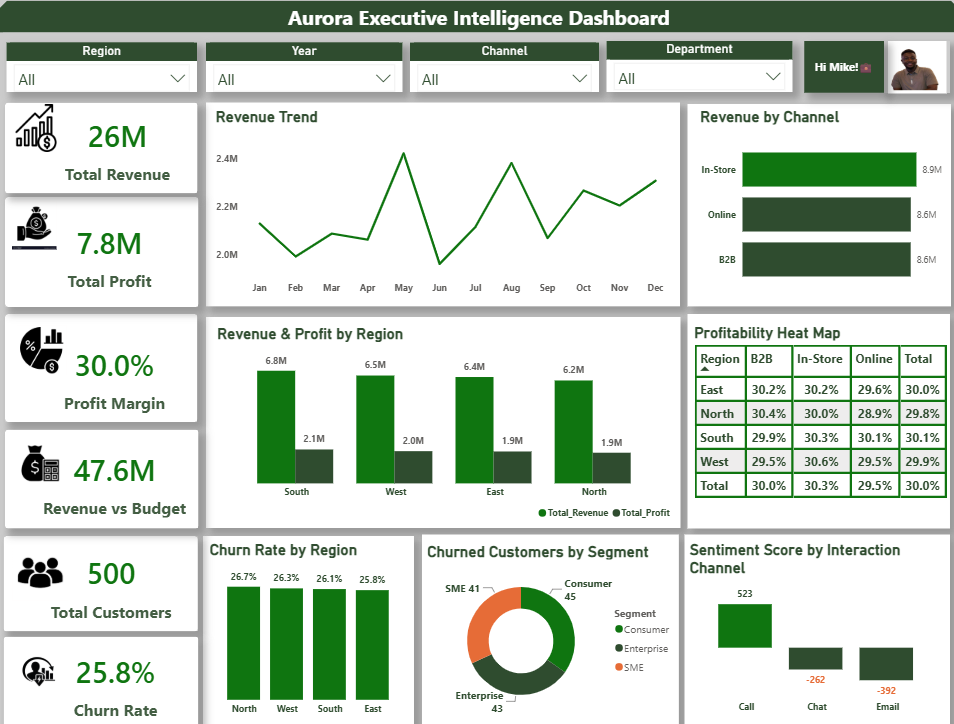

The page's visual inventory and layout, read from the dashboard file:
{"tool":"powerbi","page":{"name":"Page 2","canvas":[1280,1000],"ordinal":1},"visuals":[{"type":"shape","box":[0,2.9,1280,42.9],"z":0},{"type":"slicer","title":"Region","fields":{"Values":["Sales.region"]},"box":[10,58,254,66],"z":0,"group":"g1"},{"type":"shape","box":[9.2,138.6,257,121.2],"z":0,"group":"g16"},{"type":"shape","box":[6.2,716.4,259.1,127.4],"z":0,"group":"g11"},{"type":"group","id":"g1","title":"Group 16","box":[10,56,1048,68],"z":1000},{"type":"slicer","title":"Year","fields":{"Values":["DateTable.Year"]},"box":[276,58,262,66],"z":1000,"group":"g1"},{"type":"group","id":"g2","title":"Group 15","box":[6.2,138.6,1265.2,842.7],"z":1000,"group":"g8"},{"type":"group","id":"g3","title":"Group 1","box":[275.7,138.6,632.1,271.8],"z":1000,"group":"g2"},{"type":"shape","box":[8.1,575,258.2,132.2],"z":1000,"group":"g14"},{"type":"slicer","title":"Channel","fields":{"Values":["Sales.channel"]},"box":[548,58,252,66],"z":2000,"group":"g1"},{"type":"shape","box":[275.7,138.6,632.1,271.8],"z":2000,"group":"g3"},{"type":"group","id":"g4","title":"Group 2","box":[917.2,139.8,351.6,269.8],"z":2000,"group":"g2"},{"type":"shape","box":[8.9,421.1,256.8,144.1],"z":2000,"group":"g13"},{"type":"image","box":[14,422,66,72],"z":2000},{"type":"slicer","title":"Department","fields":{"Values":["Sales.department"]},"box":[810,56,248,68],"z":3000,"group":"g1"},{"type":"shape","box":[8.1,265.2,258.2,146.7],"z":3000,"group":"g15"},{"type":"group","id":"g5","title":"Group 3","box":[276,425.2,632,282],"z":3000,"group":"g2"},{"type":"shape","box":[276,425.2,632.7,281.4],"z":3000,"group":"g5"},{"type":"image","box":[10,576,70,66],"z":3000},{"type":"shape","box":[917.2,139.8,351.6,269.8],"z":4000,"group":"g17"},{"type":"image","box":[8,716,74,78],"z":4000},{"type":"image","box":[14,140,70,64],"z":5000,"group":"g8"},{"type":"group","id":"g6","title":"Group 5","box":[918.2,421.1,353.3,286.2],"z":5000,"group":"g2"},{"type":"shape","box":[914,715.2,354,256],"z":5000,"group":"g10"},{"type":"image","box":[0,846,88,94],"z":5000},{"type":"textbox","box":[0,0,1280,55.7],"z":6000},{"type":"shape","box":[918.2,421.1,350,286.2],"z":6000,"group":"g6"},{"type":"group","id":"g7","title":"Group 6","box":[272.8,716.4,281.3,260],"z":6000,"group":"g2"},{"type":"group","id":"g8","title":"Group 17","box":[6.2,138.6,1265.2,842.7],"z":7000},{"type":"group","id":"g9","title":"Group 7","box":[564,715.2,344,256],"z":7000,"group":"g2"},{"type":"shape","box":[6.2,850.5,260,122.7],"z":7000,"group":"g12"},{"type":"image","box":[1180,55.7,88.6,70],"z":8000},{"type":"group","id":"g10","title":"Group 8","box":[914,715.2,354,256],"z":8000,"group":"g2"},{"type":"shape","box":[1074.3,55.7,105.7,68.6],"z":9000},{"type":"cardVisual","fields":{"Data":["Measure_table.Total_Revenue"]},"box":[48,140,220,122],"z":9000,"group":"g8"},{"type":"cardVisual","fields":{"Data":["Measure_table.Total_Profit"]},"box":[38.3,282.3,219.1,122.7],"z":9000,"group":"g15"},{"type":"group","id":"g11","title":"Group 9","box":[6.2,716.4,274.8,135.7],"z":9000,"group":"g2"},{"type":"cardVisual","fields":{"Data":["Measure_table.Revenue vs Budget"]},"box":[22.2,580.7,264.3,131.4],"z":10000,"group":"g14"},{"type":"image","box":[20,586,70,66],"z":10000},{"type":"group","id":"g12","title":"Group 10","box":[6.2,850.5,260,130.8],"z":10000,"group":"g2"},{"type":"lineChart","title":"Revenue Trend","fields":{"Y":["Measure_table.Total_Revenue"],"Category":["DateTable.Month"]},"box":[283,144.1,615.2,258.5],"z":11000,"group":"g3"},{"type":"group","id":"g13","title":"Group 11","box":[8.9,421.1,256.8,150.5],"z":11000,"group":"g2"},{"type":"cardVisual","fields":{"Data":["Measure_table.Profit_Margin"]},"box":[54.1,443.2,200.6,128.8],"z":11000,"group":"g13"},{"type":"image","box":[18,726,74,78],"z":11000},{"type":"clusteredColumnChart","title":"Revenue & Profit by Region","fields":{"Category":["aurora_cleaned_dataset.region"],"Y":["Measure_table.Total_Revenue","Measure_table.Total_Profit"]},"box":[285.7,434.5,618.2,269.5],"z":12000,"group":"g5"},{"type":"group","id":"g14","title":"Group 12","box":[8.1,575,278.4,137.1],"z":12000,"group":"g2"},{"type":"image","box":[10,856,88,94],"z":12000},{"type":"barChart","title":"Revenue by Channel","fields":{"Category":["aurora_cleaned_dataset.channel"],"Y":["Measure_table.Total_Revenue"]},"box":[928.3,144.4,332.9,257.1],"z":13000,"group":"g17"},{"type":"group","id":"g15","title":"Group 13","box":[8.1,265.2,258.2,146.7],"z":13000,"group":"g2"},{"type":"image","box":[11.8,270.9,70,64],"z":13000,"group":"g15"},{"type":"image","box":[24,432,66,72],"z":13000},{"type":"group","id":"g16","title":"Group 14","box":[9.2,138.6,257,121.2],"z":14000,"group":"g2"},{"type":"shape","box":[564,715.2,342.4,256],"z":14000,"group":"g9"},{"type":"shape","box":[272.8,716.4,281.3,260],"z":15000,"group":"g7"},{"type":"cardVisual","fields":{"Data":["Measure_table.Total_Customers"]},"box":[17.9,719.3,263.3,132.3],"z":18000,"group":"g11"},{"type":"cardVisual","fields":{"Data":["Measure_table.Churn_Rate %"]},"box":[56.9,850.5,199.5,130.8],"z":19000,"group":"g12"},{"type":"group","id":"g17","title":"Group 4","box":[917.2,139.8,351.6,269.8],"z":20002,"group":"g4"},{"type":"columnChart","title":"Sentiment Score by Interaction Channel","fields":{"Category":["Sales.interaction_channel"],"Y":["Sum(Sales.sentiment_score)"]},"box":[915.7,723.2,349,240],"z":21000,"group":"g10"},{"type":"pivotTable","title":"Profitability Heat Map","fields":{"Rows":["Sales.region"],"Columns":["Sales.channel"],"Values":["Measure_table.Profit_Margin"]},"box":[923.1,432.5,348.3,271.5],"z":21003,"group":"g6"},{"type":"columnChart","title":"Churn Rate by Region","fields":{"Category":["Sales.region"],"Y":["Measure_table.Churn_Rate %"]},"box":[277.7,722.9,273.1,242],"z":22000,"group":"g7"},{"type":"donutChart","fields":{"Category":["Sales.customer_segment"],"Y":["Measure_table.Churned_Customers"]},"box":[565.6,724.9,342.4,239.9],"z":23000,"group":"g9"}]}

Visuals, with their boxes in screenshot pixels (x1, y1, x2, y2), scaled from the page's 1280x1000 canvas onto the 954x724 screenshot:
shape: [left=0, top=2, right=953, bottom=33]
"Region" slicer: [left=7, top=42, right=197, bottom=90]
shape: [left=7, top=100, right=198, bottom=188]
shape: [left=5, top=519, right=198, bottom=611]
"Group 16" group: [left=7, top=41, right=789, bottom=90]
"Year" slicer: [left=206, top=42, right=401, bottom=90]
"Group 15" group: [left=5, top=100, right=948, bottom=710]
"Group 1" group: [left=205, top=100, right=677, bottom=297]
shape: [left=6, top=416, right=198, bottom=512]
"Channel" slicer: [left=408, top=42, right=596, bottom=90]
shape: [left=205, top=100, right=677, bottom=297]
"Group 2" group: [left=684, top=101, right=946, bottom=297]
shape: [left=7, top=305, right=198, bottom=409]
image: [left=10, top=306, right=60, bottom=358]
"Department" slicer: [left=604, top=41, right=789, bottom=90]
shape: [left=6, top=192, right=198, bottom=298]
"Group 3" group: [left=206, top=308, right=677, bottom=512]
shape: [left=206, top=308, right=677, bottom=512]
image: [left=7, top=417, right=60, bottom=465]
shape: [left=684, top=101, right=946, bottom=297]
image: [left=6, top=518, right=61, bottom=575]
image: [left=10, top=101, right=63, bottom=148]
"Group 5" group: [left=684, top=305, right=948, bottom=512]
shape: [left=681, top=518, right=945, bottom=703]
image: [left=0, top=613, right=66, bottom=681]
textbox: [left=0, top=0, right=953, bottom=40]
shape: [left=684, top=305, right=945, bottom=512]
"Group 6" group: [left=203, top=519, right=413, bottom=707]
"Group 17" group: [left=5, top=100, right=948, bottom=710]
"Group 7" group: [left=420, top=518, right=677, bottom=703]
shape: [left=5, top=616, right=198, bottom=705]
image: [left=879, top=40, right=946, bottom=91]
"Group 8" group: [left=681, top=518, right=945, bottom=703]
shape: [left=801, top=40, right=879, bottom=90]
cardVisual - Measure_table.Total_Revenue: [left=36, top=101, right=200, bottom=190]
cardVisual - Measure_table.Total_Profit: [left=29, top=204, right=192, bottom=293]
"Group 9" group: [left=5, top=519, right=209, bottom=617]
cardVisual - Measure_table.Revenue vs Budget: [left=17, top=420, right=214, bottom=516]
image: [left=15, top=424, right=67, bottom=472]
"Group 10" group: [left=5, top=616, right=198, bottom=710]
"Revenue Trend" lineChart: [left=211, top=104, right=669, bottom=291]
"Group 11" group: [left=7, top=305, right=198, bottom=414]
cardVisual - Measure_table.Profit_Margin: [left=40, top=321, right=190, bottom=414]
image: [left=13, top=526, right=69, bottom=582]
"Revenue & Profit by Region" clusteredColumnChart: [left=213, top=315, right=674, bottom=510]
"Group 12" group: [left=6, top=416, right=214, bottom=516]
image: [left=7, top=620, right=73, bottom=688]
"Revenue by Channel" barChart: [left=692, top=105, right=940, bottom=291]
"Group 13" group: [left=6, top=192, right=198, bottom=298]
image: [left=9, top=196, right=61, bottom=242]
image: [left=18, top=313, right=67, bottom=365]
"Group 14" group: [left=7, top=100, right=198, bottom=188]
shape: [left=420, top=518, right=676, bottom=703]
shape: [left=203, top=519, right=413, bottom=707]
cardVisual - Measure_table.Total_Customers: [left=13, top=521, right=210, bottom=617]
cardVisual - Measure_table.Churn_Rate %: [left=42, top=616, right=191, bottom=710]
"Group 4" group: [left=684, top=101, right=946, bottom=297]
"Sentiment Score by Interaction Channel" columnChart: [left=682, top=524, right=943, bottom=697]
"Profitability Heat Map" pivotTable: [left=688, top=313, right=948, bottom=510]
"Churn Rate by Region" columnChart: [left=207, top=523, right=411, bottom=699]
donutChart - Sales.customer_segment x Measure_table.Churned_Customers: [left=422, top=525, right=677, bottom=699]
